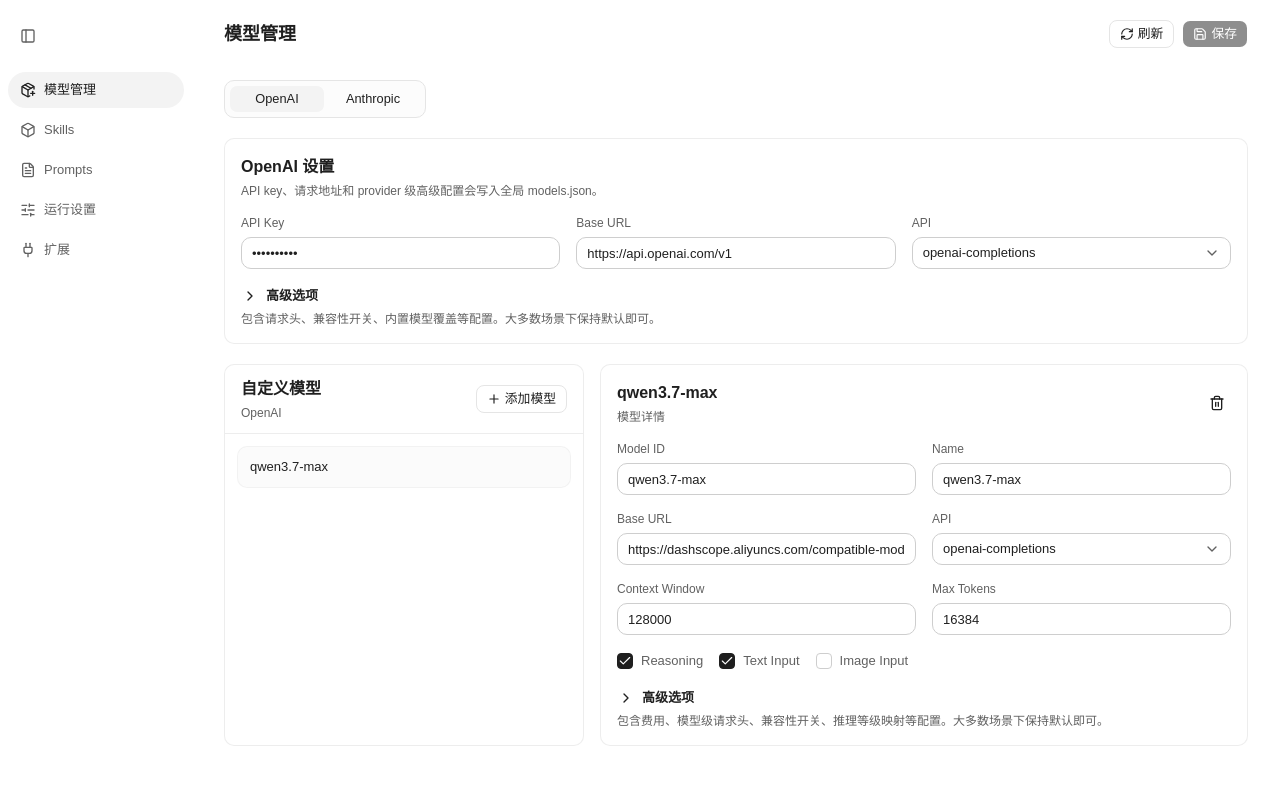
Test case: SettingsApp › keeps provider advanced JSON settings collapsed until requested
Expected: the text "Model Overrides" is not shown
Click the 1st button "高级选项" at {"x": 280, "y": 296}, box [241, 285, 319, 307]
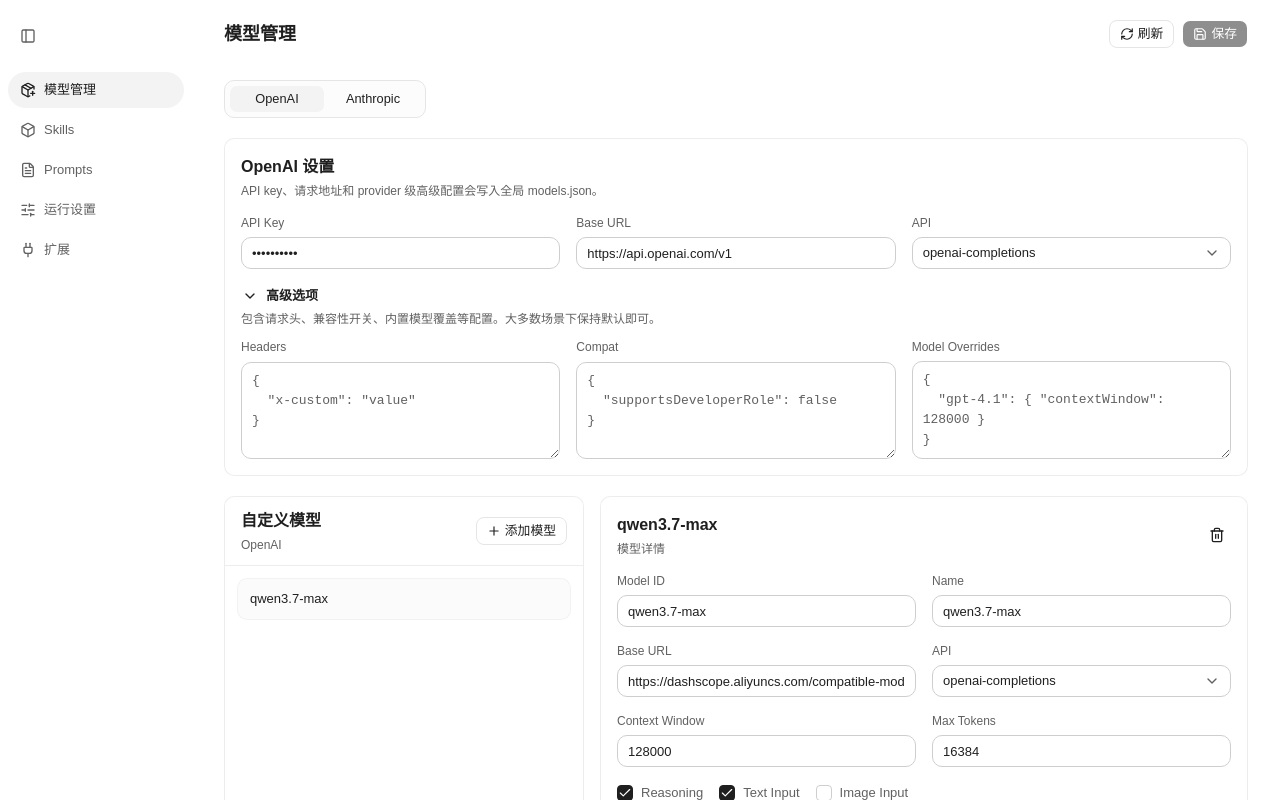
Now the button "高级选项" is expanded, box [241, 285, 319, 307]
Now the text "Model Overrides" is shown, box [912, 340, 1000, 354]
